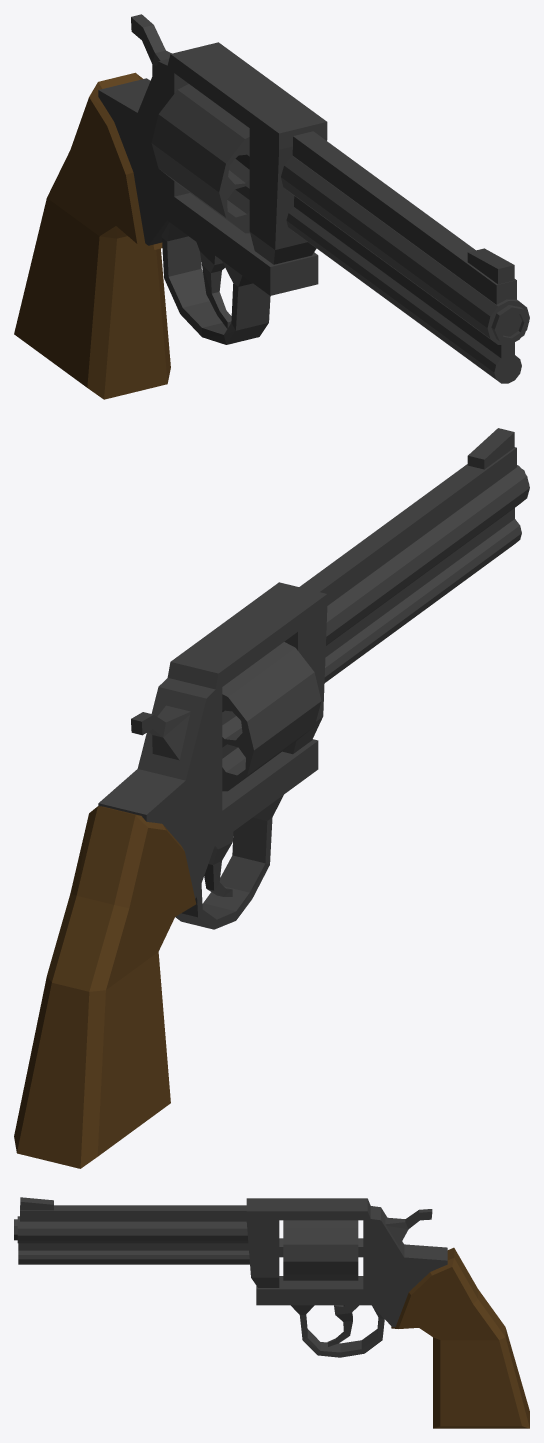
File: Revolver.fbx
The picture shows the model from 3 angles, top to bottom: view 1: azimuth 30°, elevation 25°; view 2: azimuth 150°, elevation 25°; view 3: azimuth 270°, elevation 25°; orthographic projection. The views are drawn at different scales.
Visible parts, largest first — view 1: Revolver_02:Mesh; view 2: Revolver_02:Mesh; view 3: Revolver_02:Mesh.
Part boxes in pixels (box(x1,y1,x2,y2)): Revolver_02:Mesh: box(14, 14, 529, 399); Revolver_02:Mesh: box(14, 428, 529, 1168); Revolver_02:Mesh: box(14, 1197, 529, 1428).
Size of the model in its own units: 0.6363 by 2.32 by 4.92.
